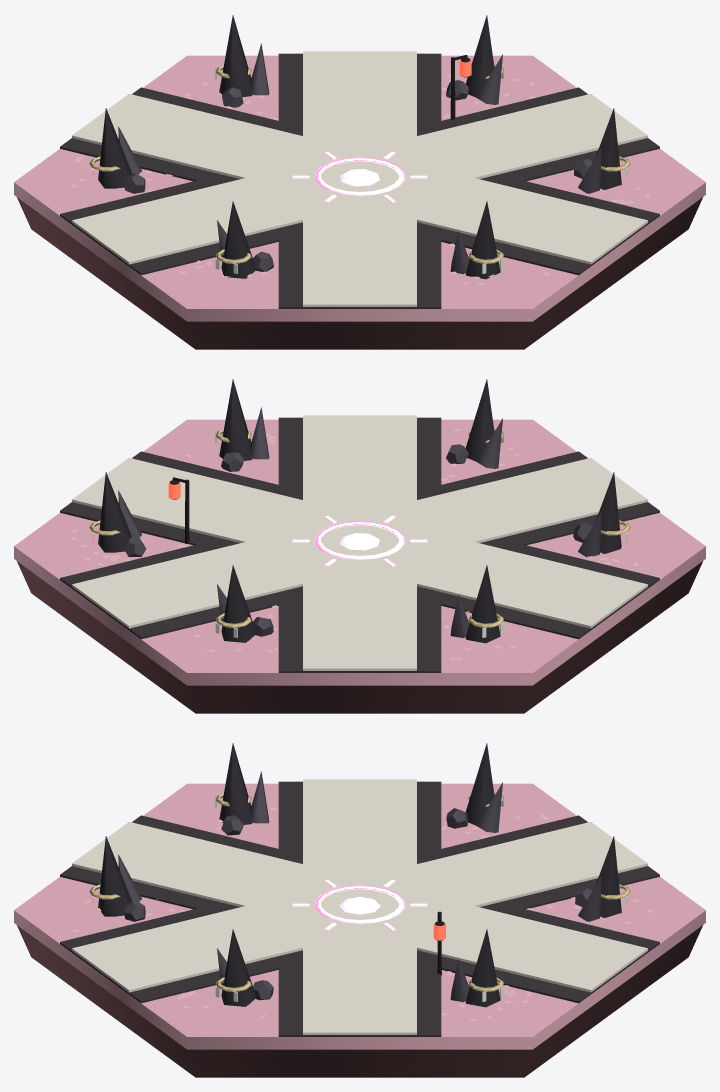
Rendered from landmark_boss.glb.
3 renders of one model, top to bottom at view 1: azimuth 30°, elevation 25°; view 2: azimuth 150°, elevation 25°; view 3: azimuth 270°, elevation 25°, orthographic.
Parts seen in each view (by area): view 1: road, ground, ground_soil, deco_spikes_2_main, deco_spikes_1_main, deco_spikes_3_main, deco_spikes_4_main, deco_spikes_0_main, deco_spikes_5_main, core_ring, deco_petals, deco_spikes_0_side (+3 smaller); view 2: road, ground, ground_soil, deco_spikes_0_main, deco_spikes_5_main, deco_spikes_1_main, deco_spikes_2_main, deco_spikes_4_main, deco_spikes_3_main, core_ring, deco_petals, deco_spikes_4_side (+3 smaller); view 3: road, ground, ground_soil, deco_spikes_4_main, deco_spikes_3_main, deco_spikes_5_main, deco_spikes_0_main, deco_spikes_2_main, deco_spikes_1_main, core_ring, road_surface_hub, deco_petals (+4 smaller).
Part boxes in pixels (x1=…): road: x1=60, y1=51, x2=659, y2=308; ground: x1=14, y1=55, x2=705, y2=321; ground_soil: x1=17, y1=197, x2=702, y2=349; deco_spikes_2_main: x1=98, y1=108, x2=132, y2=188; deco_spikes_1_main: x1=219, y1=15, x2=252, y2=97; deco_spikes_3_main: x1=221, y1=201, x2=255, y2=278; deco_spikes_4_main: x1=465, y1=201, x2=500, y2=279; deco_spikes_0_main: x1=466, y1=15, x2=494, y2=97; deco_spikes_5_main: x1=595, y1=108, x2=621, y2=189; core_ring: x1=315, y1=157, x2=404, y2=195; deco_petals: x1=71, y1=75, x2=650, y2=285; deco_spikes_0_side: x1=477, y1=54, x2=502, y2=104; road: x1=60, y1=415, x2=659, y2=672; ground: x1=14, y1=419, x2=705, y2=685; ground_soil: x1=17, y1=561, x2=702, y2=713; deco_spikes_0_main: x1=98, y1=472, x2=131, y2=552; deco_spikes_5_main: x1=219, y1=379, x2=252, y2=460; deco_spikes_1_main: x1=221, y1=565, x2=255, y2=642; deco_spikes_2_main: x1=465, y1=565, x2=500, y2=643; deco_spikes_4_main: x1=465, y1=379, x2=494, y2=461; deco_spikes_3_main: x1=595, y1=472, x2=621, y2=553; core_ring: x1=315, y1=521, x2=404, y2=559; deco_petals: x1=71, y1=429, x2=638, y2=659; deco_spikes_4_side: x1=477, y1=418, x2=502, y2=468; road: x1=60, y1=779, x2=659, y2=1036; ground: x1=14, y1=783, x2=705, y2=1049; ground_soil: x1=17, y1=925, x2=702, y2=1077; deco_spikes_4_main: x1=98, y1=836, x2=131, y2=916; deco_spikes_3_main: x1=219, y1=743, x2=252, y2=824; deco_spikes_5_main: x1=221, y1=929, x2=256, y2=1006; deco_spikes_0_main: x1=465, y1=929, x2=500, y2=1007; deco_spikes_2_main: x1=466, y1=743, x2=494, y2=825; deco_spikes_1_main: x1=595, y1=836, x2=621, y2=917; core_ring: x1=315, y1=885, x2=404, y2=923; road_surface_hub: x1=304, y1=882, x2=403, y2=929; deco_petals: x1=72, y1=806, x2=652, y2=1021.
Bounding box in the file's own units: 1.73 × 0.3891 × 2.
